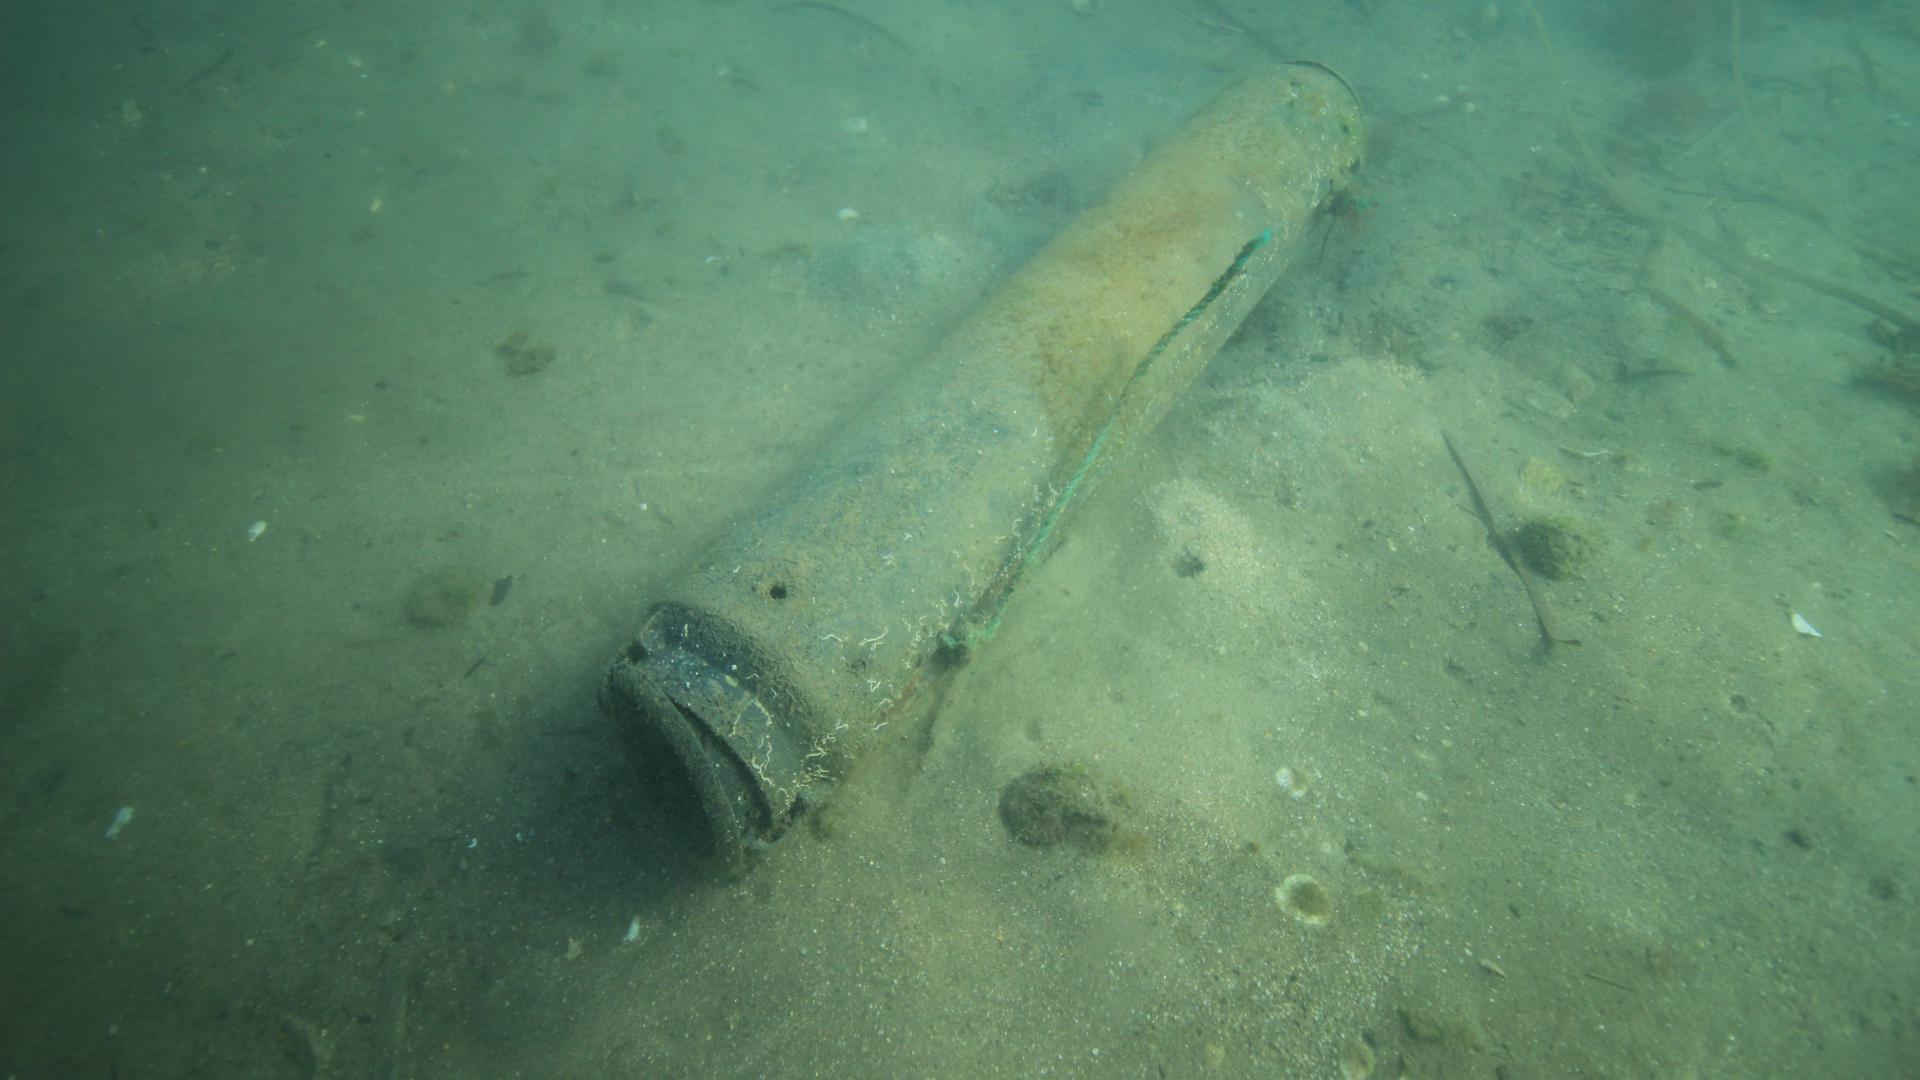eel fish trap: (593, 53, 1371, 866)
rope: (973, 225, 1273, 638)
